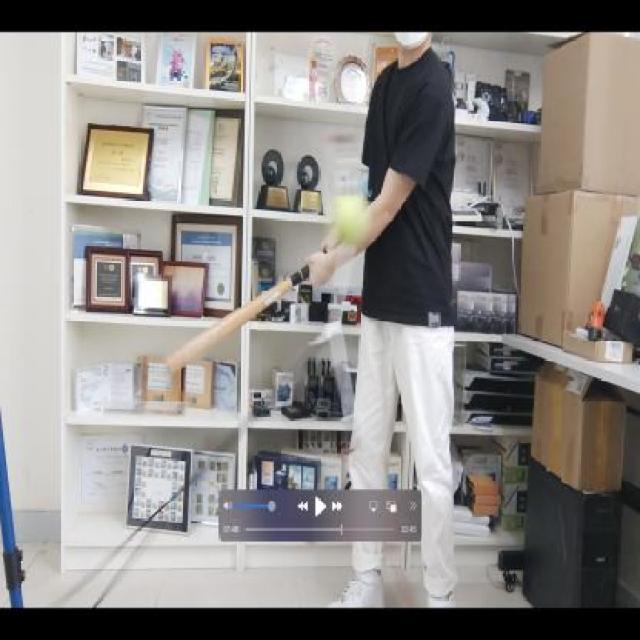baseball: (326, 193, 371, 252)
